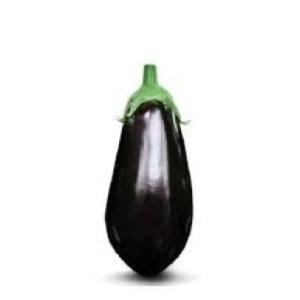eggplant: (104, 61, 192, 275)
